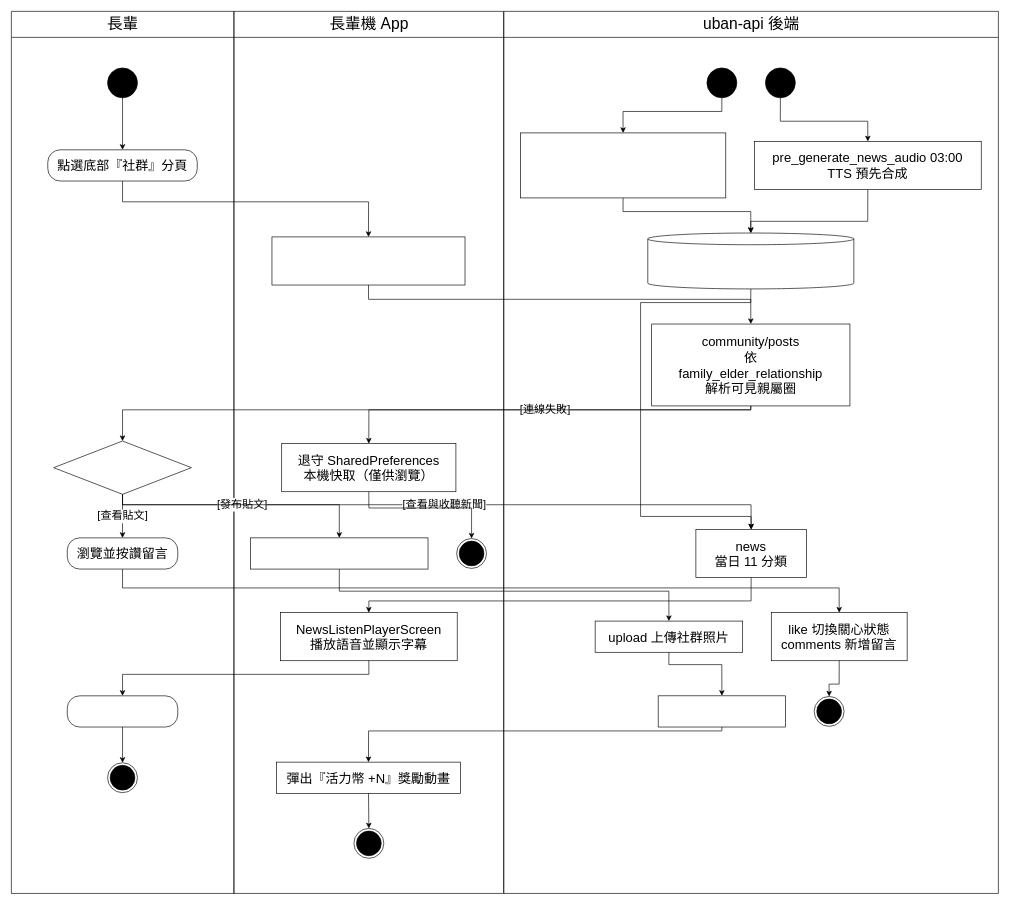
This 1010x905 diagram has some shape labels left out. Here are the shapes that lost their labels. From the top down, the centre of each, then its label:
[623,165]: daily_news_crawl_job 06:00 中央社 CNA 自建爬蟲 （APScheduler 排程）
[368,260]: ElderCommunityScreen CommunityService 遠端優先
[750,260]: daily_news_items 每日新聞快 取（含語音）
[122,467]: 要做什麼？
[339,553]: image_picker 拍照或選圖
[122,711]: 收聽新聞
[722,711]: posts 發佈新貼文
